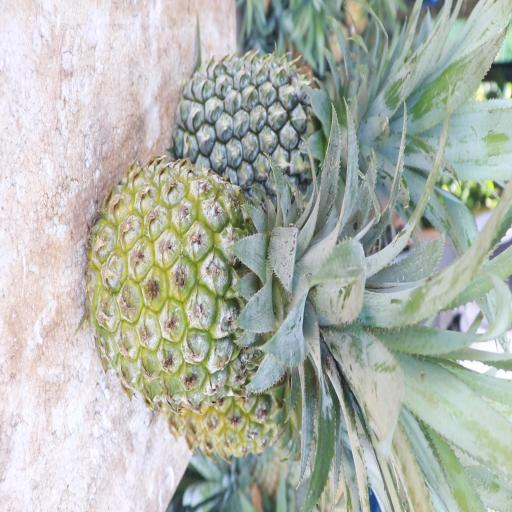------------------------------: (82, 145, 368, 399)
